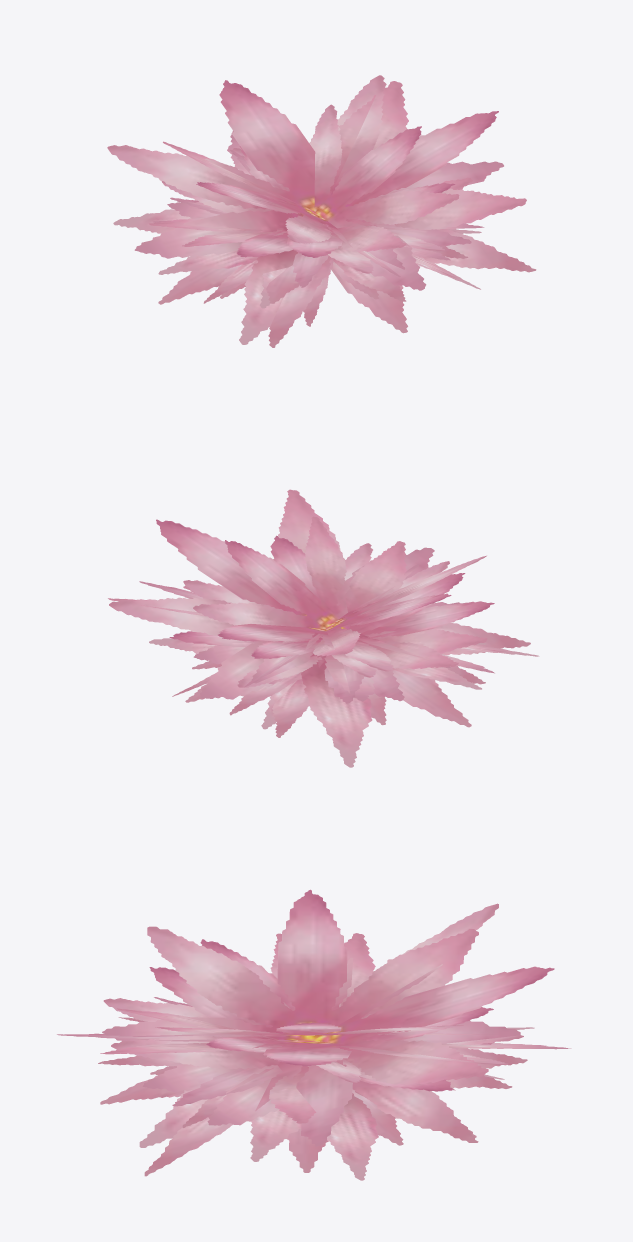
The model's file is far.glb.
The picture shows the model from 3 angles, top to bottom: view 1: azimuth 30°, elevation 25°; view 2: azimuth 150°, elevation 25°; view 3: azimuth 270°, elevation 25°; orthographic projection. The views are drawn at different scales.
Visible parts, largest first — view 1: lod2, lod1; view 2: lod1, lod2; view 3: lod1, lod2.
Boxes of the visible parts, <box> form: lod2: <box>107,75,536,347</box>; lod1: <box>149,104,481,326</box>; lod1: <box>169,516,494,729</box>; lod2: <box>108,489,539,767</box>; lod1: <box>98,889,523,1172</box>; lod2: <box>57,903,571,1180</box>.
Bounding box in the file's own units: 1.67 × 0.48 × 1.67.
Materials: 1 (1 with a texture image).
